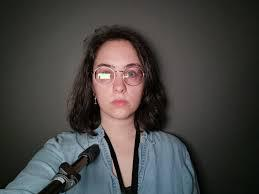face: (94, 40, 145, 121)
